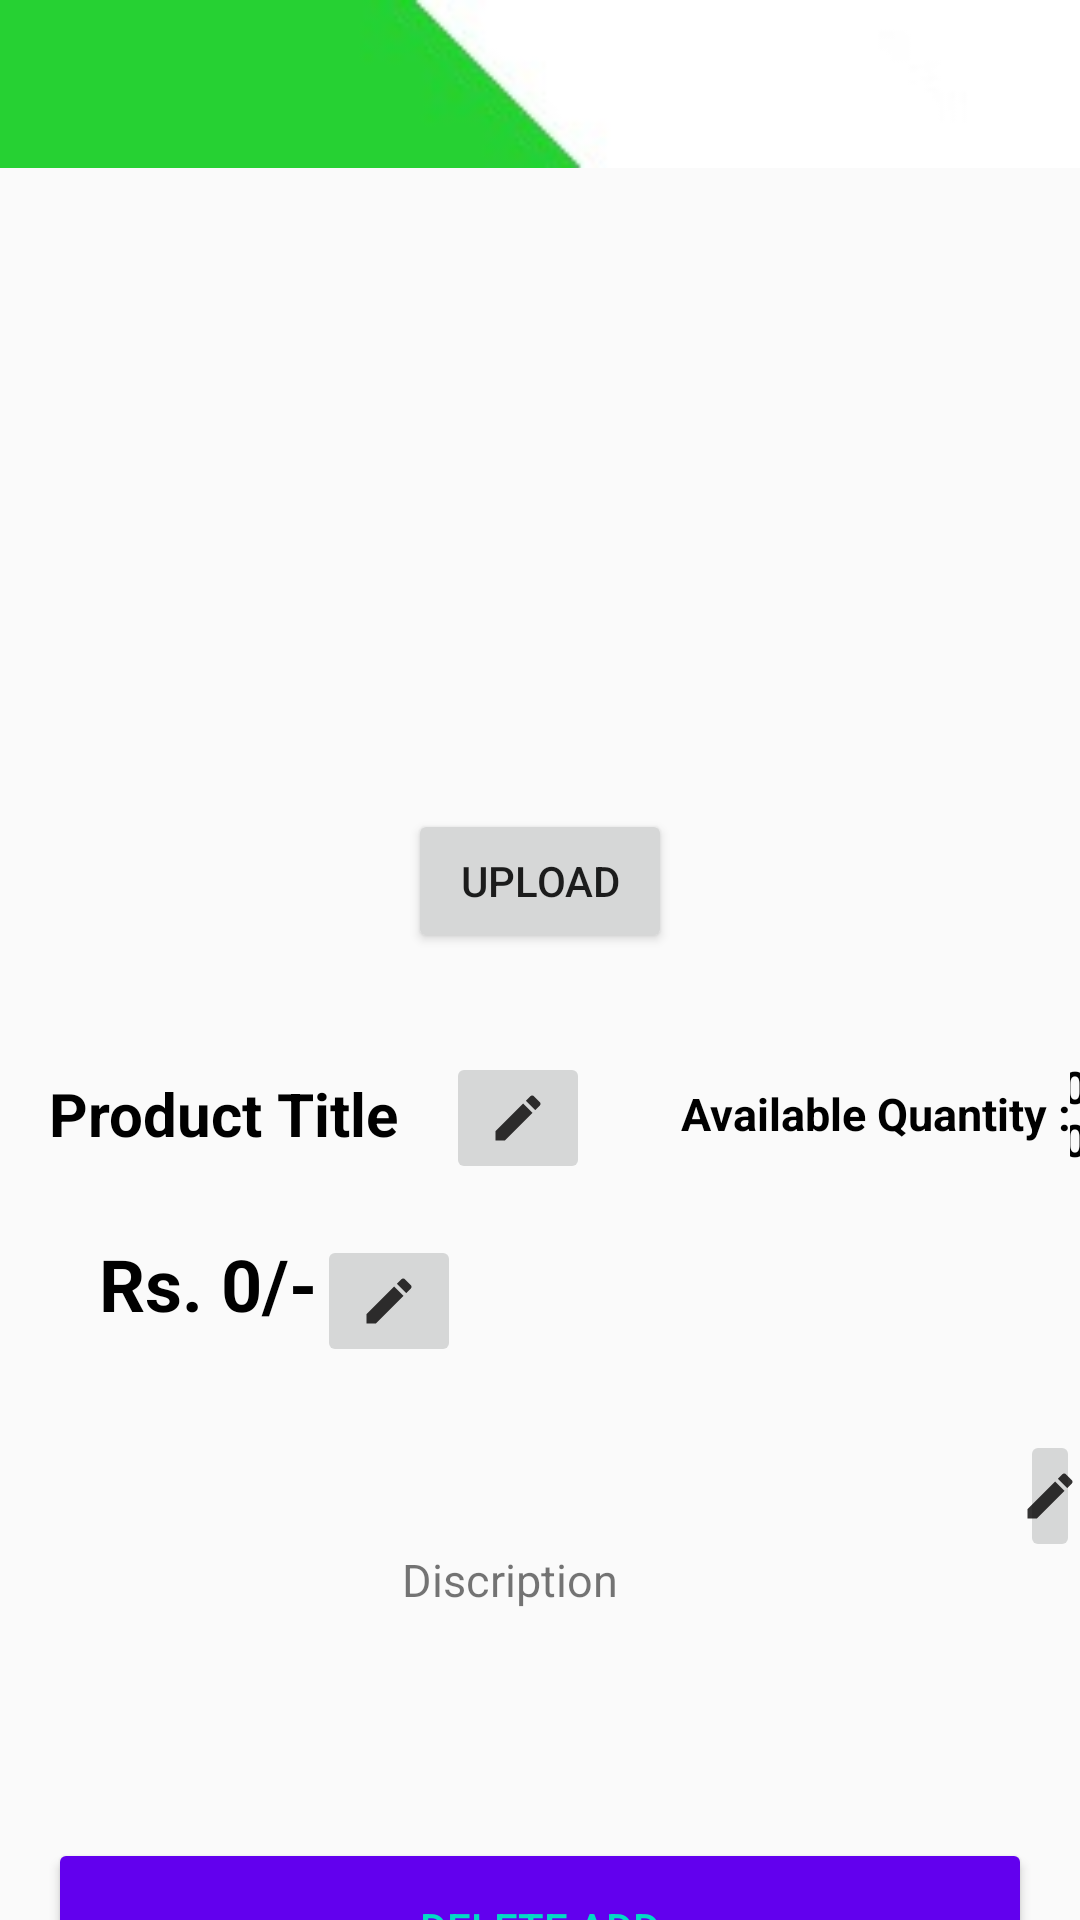

Screen size 1080w x 1920h. Icon name, then its center in pixels as (x,y):
edit: (518,1118), (389,1301), (1050,1496)
